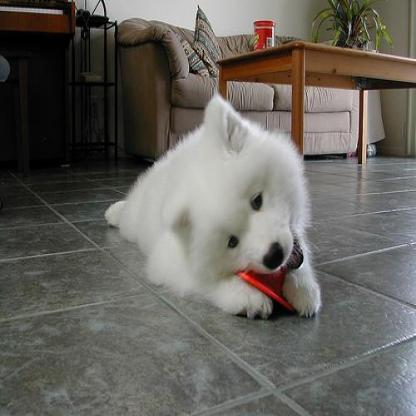Samoyed: (101, 88, 322, 315)
